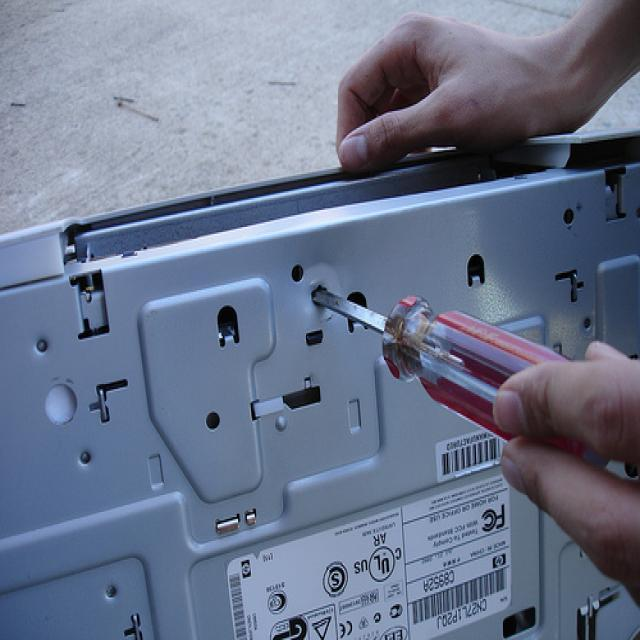screwdriver: (306, 264, 622, 484)
